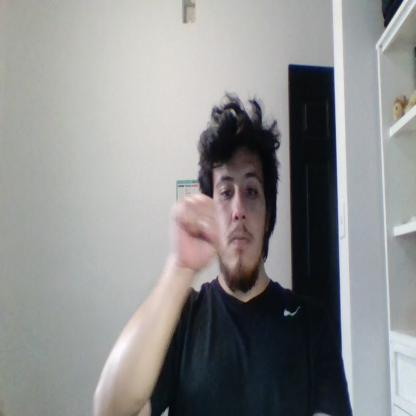S: (172, 193, 222, 273)
